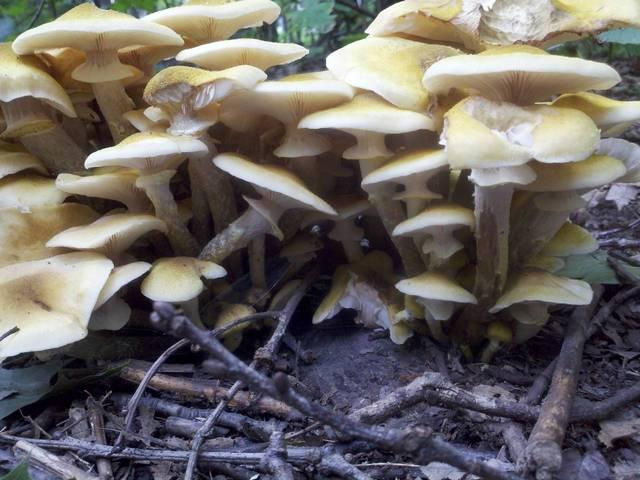edible_mushroom: (0, 0, 638, 365)
